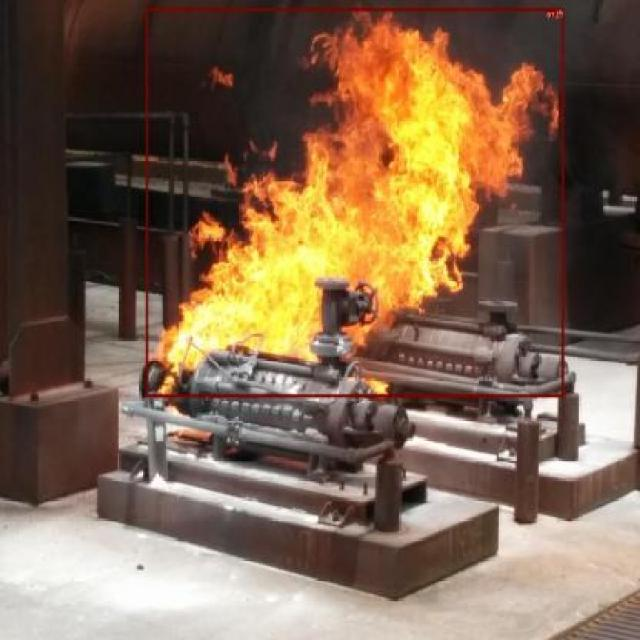Fire: (147, 8, 564, 397)
